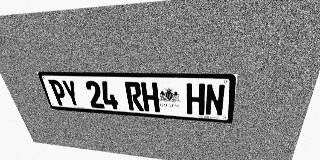2: (84, 81, 105, 108)
4: (99, 81, 119, 109)
H: (186, 83, 205, 115), (140, 82, 160, 112)
N: (205, 84, 226, 116)
P: (48, 80, 69, 106)
R: (124, 82, 144, 111)
Y: (61, 80, 82, 107)
